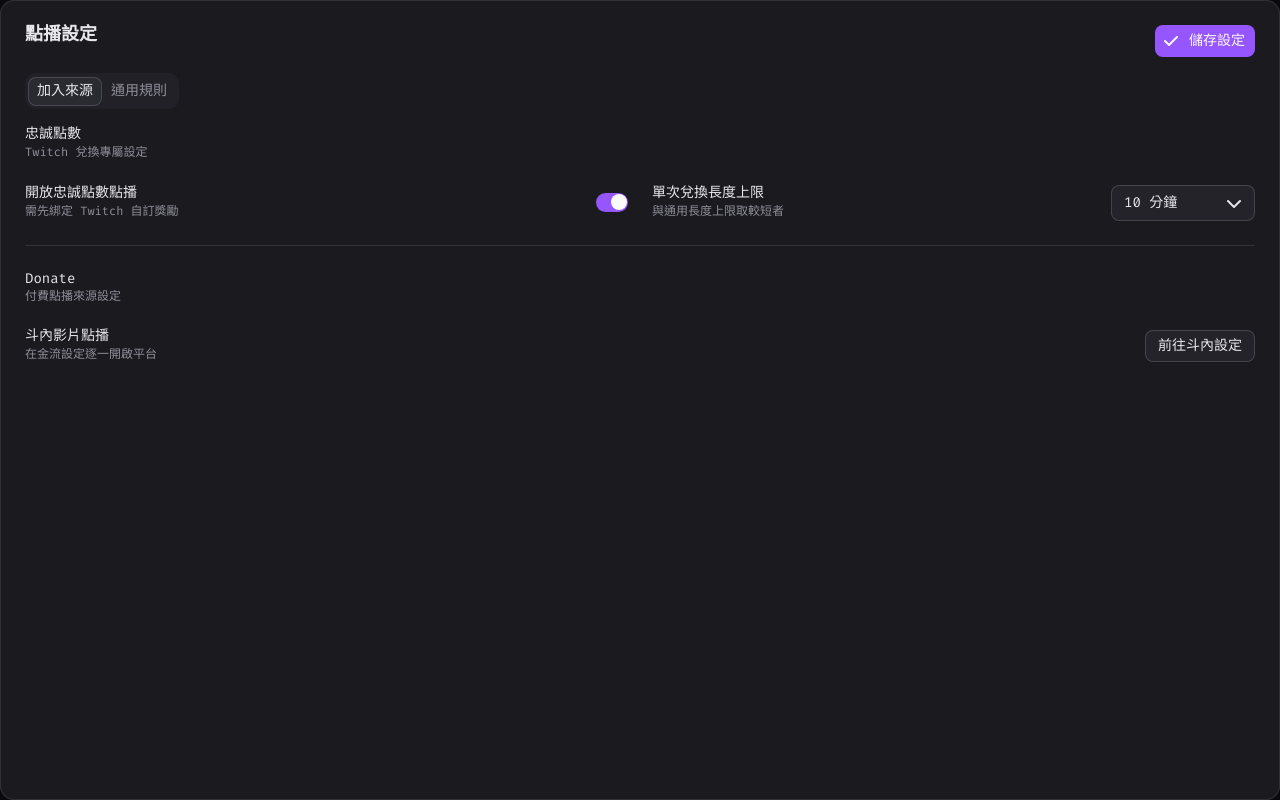
Test: SettingsCard information architecture › switches to shared rules without rendering a second settings card
Step 1. Click the tab "通用規則" → {"x": 139, "y": 91}, box 102,76 -> 176,106
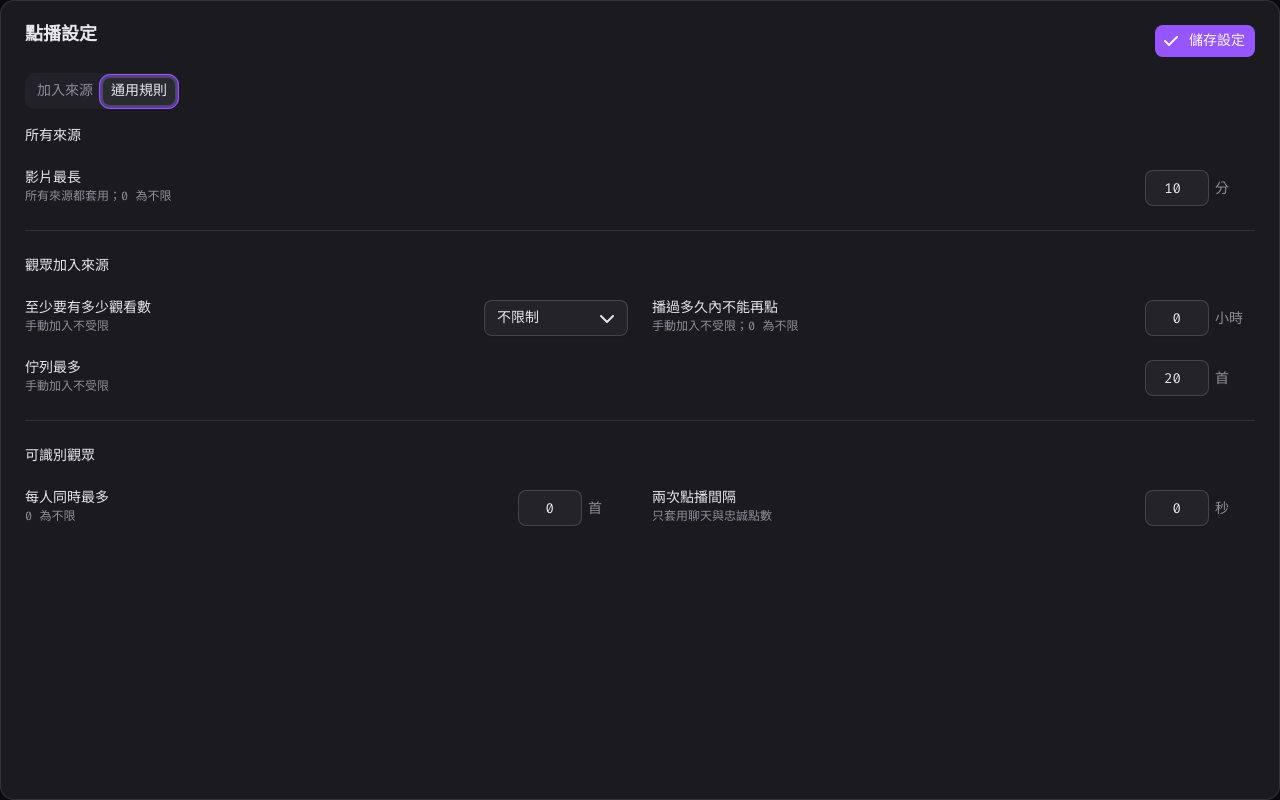
Expected: the text "影片最長" is shown, 25,168 -> 81,187
